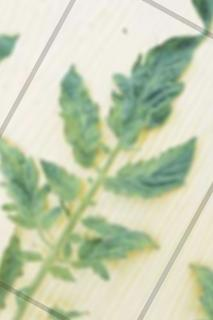Tomato leaf mosaic virus: (92, 12, 213, 163), (100, 109, 206, 221), (62, 208, 164, 303), (0, 136, 82, 242), (29, 155, 91, 207)
